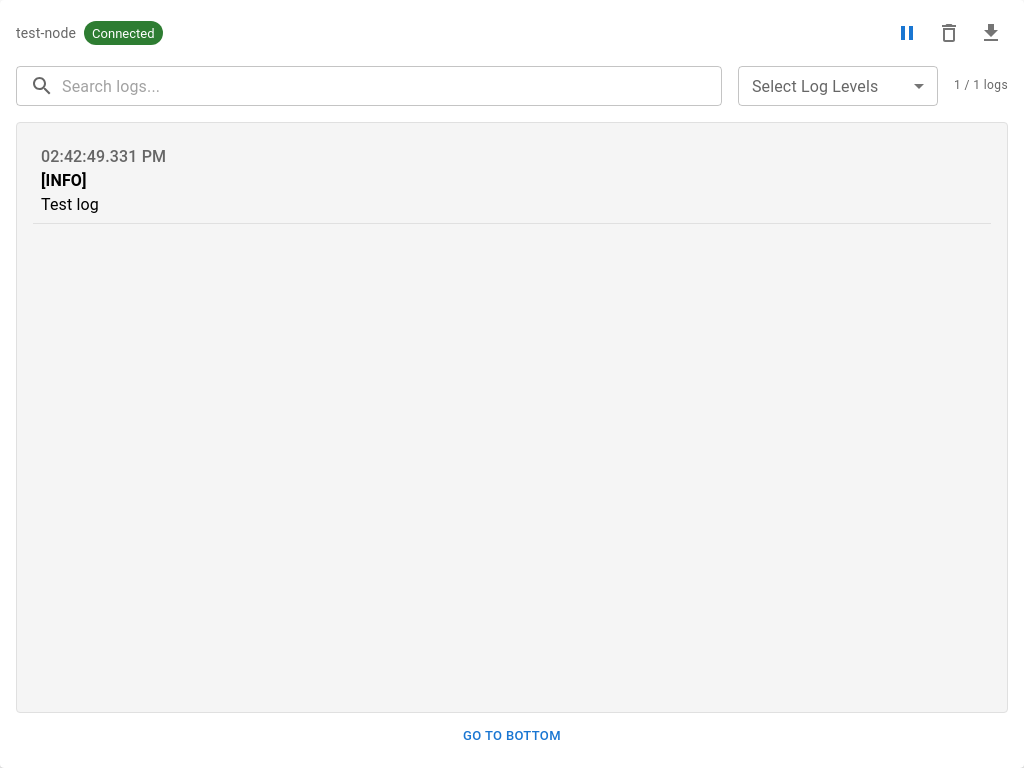
Test: LogsViewer › Clear and Download › clears logs
Check: the text "Test log" is shown, box left=41, top=195, right=99, bottom=214
Click the button named "clear".
click(949, 33)  # box left=932, top=16, right=966, bottom=50
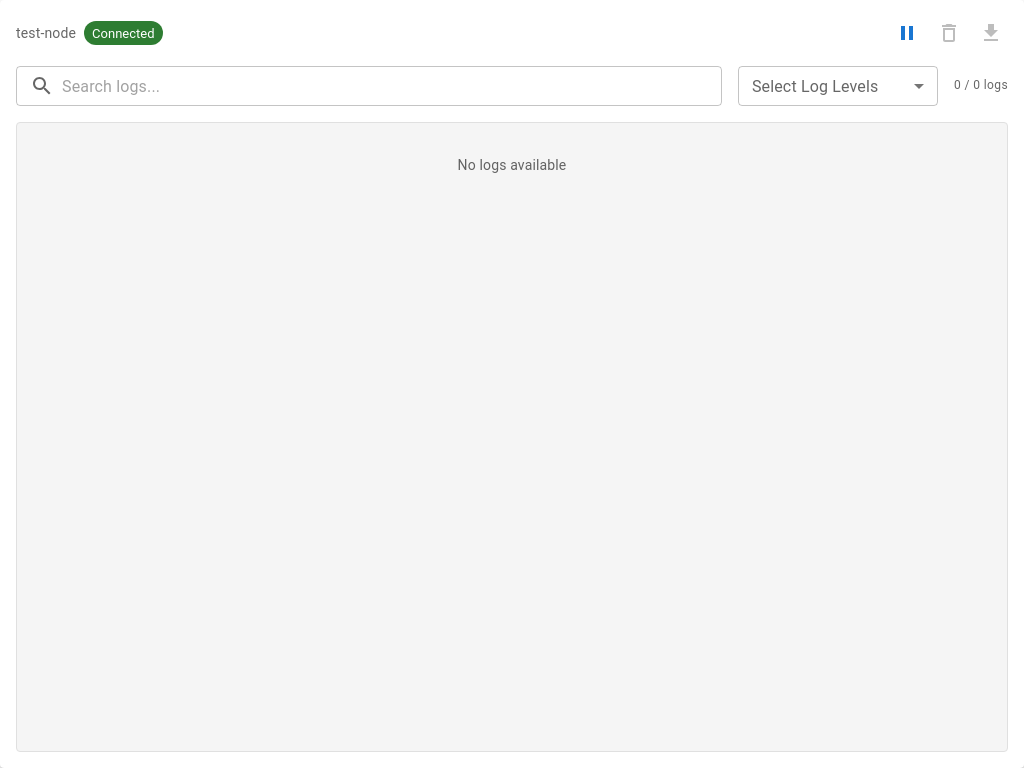
Check: the text "No logs available" is shown, box left=458, top=157, right=566, bottom=173
